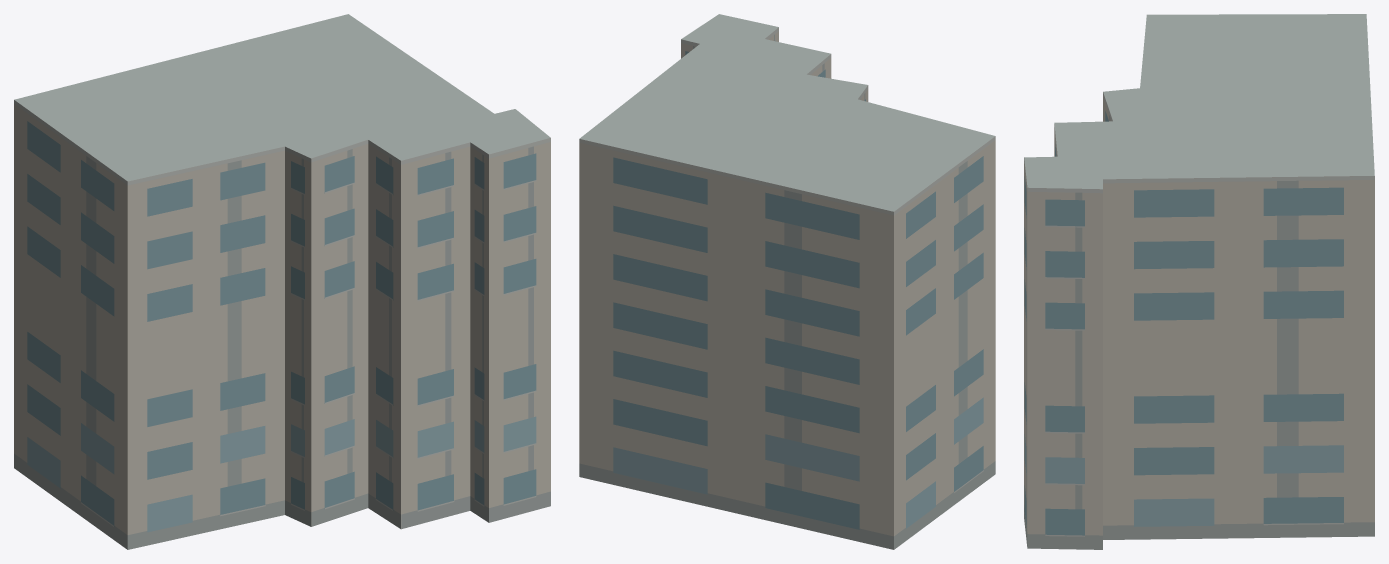
File: survey-upis-33020614.glb
The picture shows the model from 3 angles, left to right: view 1: azimuth 30°, elevation 25°; view 2: azimuth 150°, elevation 25°; view 3: azimuth 270°, elevation 25°; orthographic projection. The views are drawn at different scales.
Visible parts, largest first — view 1: survey-upis-33020614.tmp; view 2: survey-upis-33020614.tmp; view 3: survey-upis-33020614.tmp.
Boxes of the visible parts, x1=… form: survey-upis-33020614.tmp: x1=14, y1=14, x2=550, y2=549; survey-upis-33020614.tmp: x1=579, y1=14, x2=995, y2=549; survey-upis-33020614.tmp: x1=1024, y1=14, x2=1374, y2=549.
Bounding box in the file's own units: 22.92 × 22 × 19.4.
